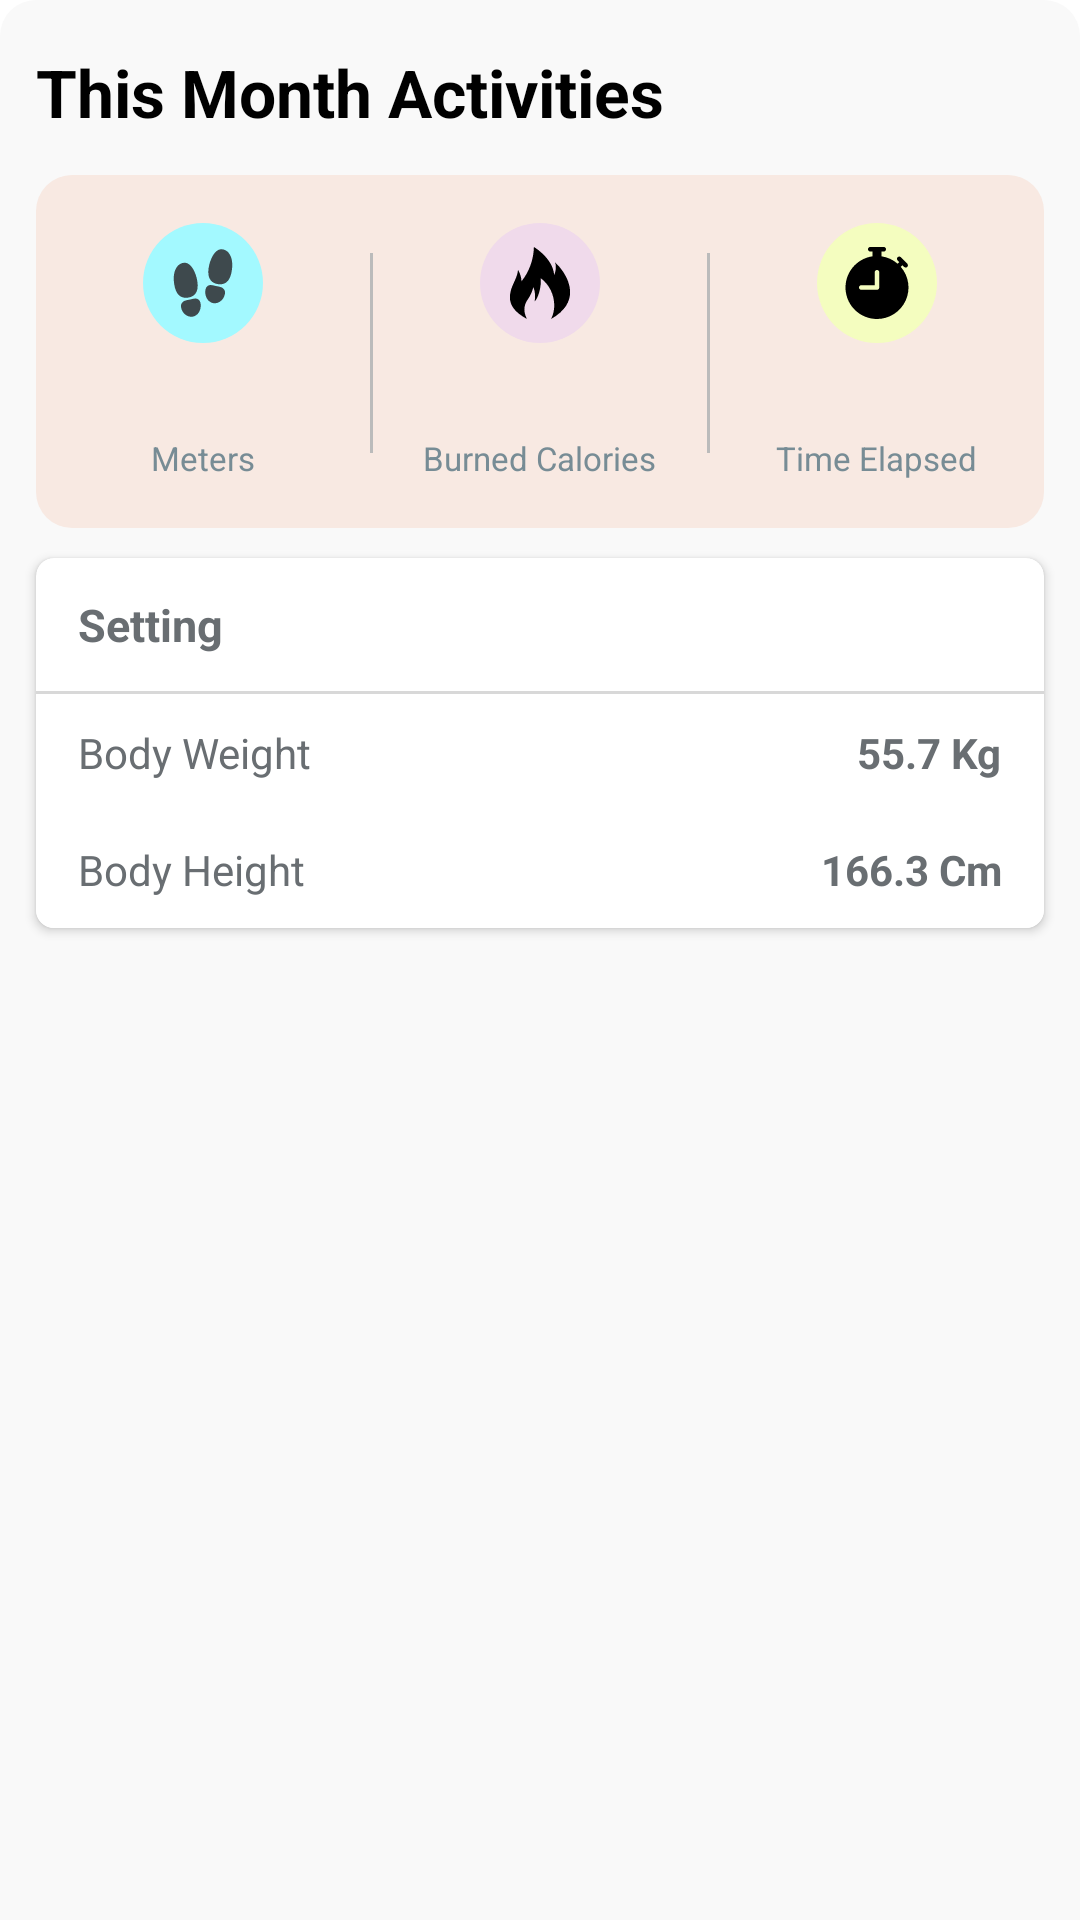

Named icons in this screenshot (1080x1920) and their centers, (x,y):
fire: (540,283)
footsteps: (203,283)
stopwatch: (877,283)
